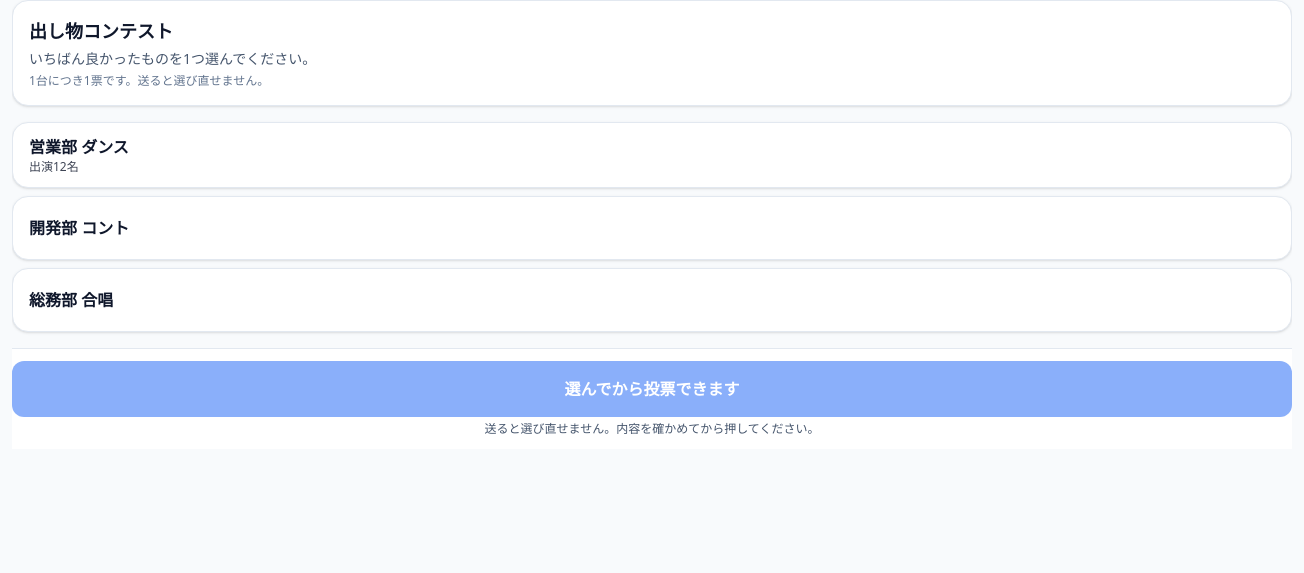
Test: 1位だけを選ぶ投票 › 送ったあとは選び直せない
Click the button "営業部 ダンス 出演12名" at (79, 147), box [12,122,1292,188]
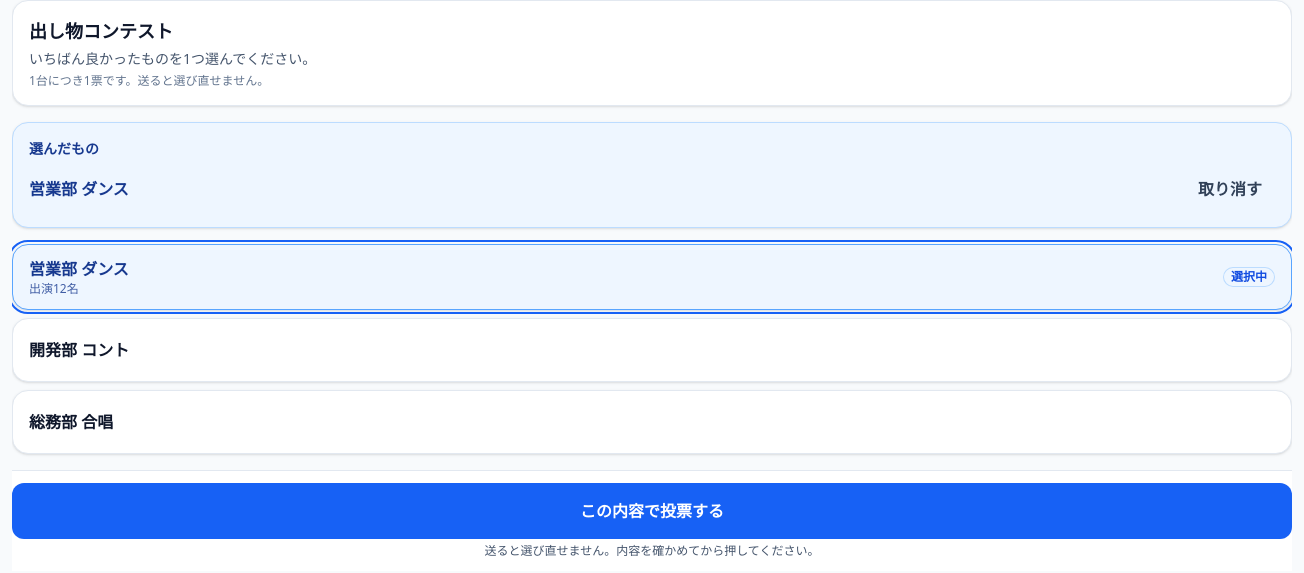
Click the button "この内容で投票する" at (652, 511), box [12,483,1292,539]
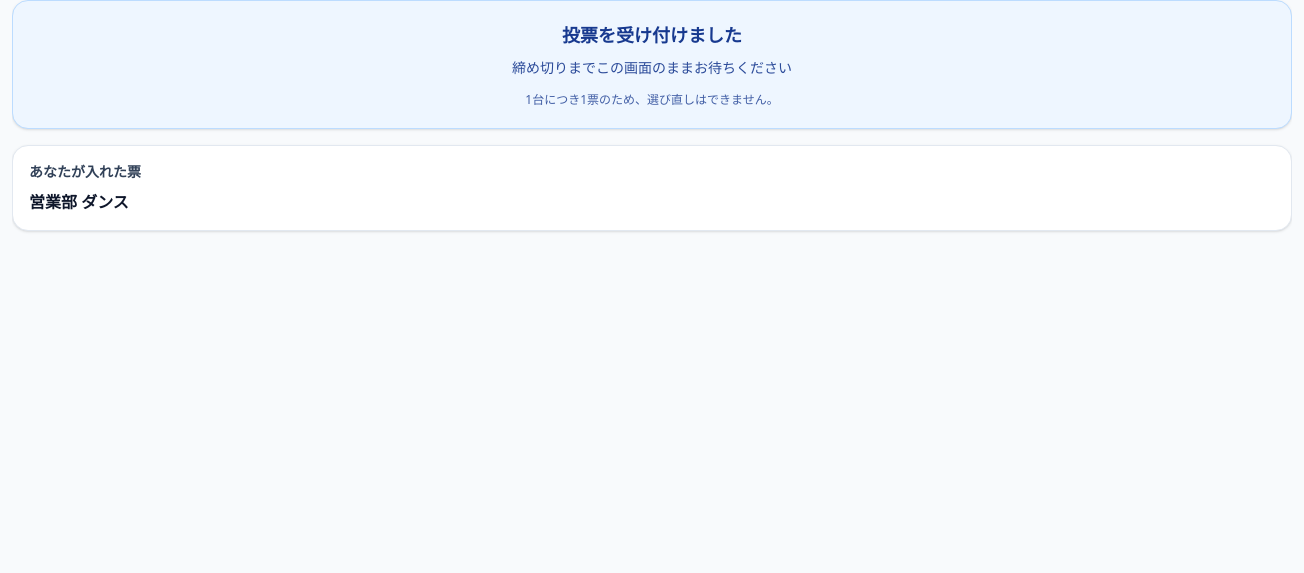
Expected: the heading "投票を受け付けました" is shown, [562,21,742,49]
Expected: the button "開発部 コント" is gone
Expected: the heading "あなたが入れた票" is shown, [29,162,141,181]
